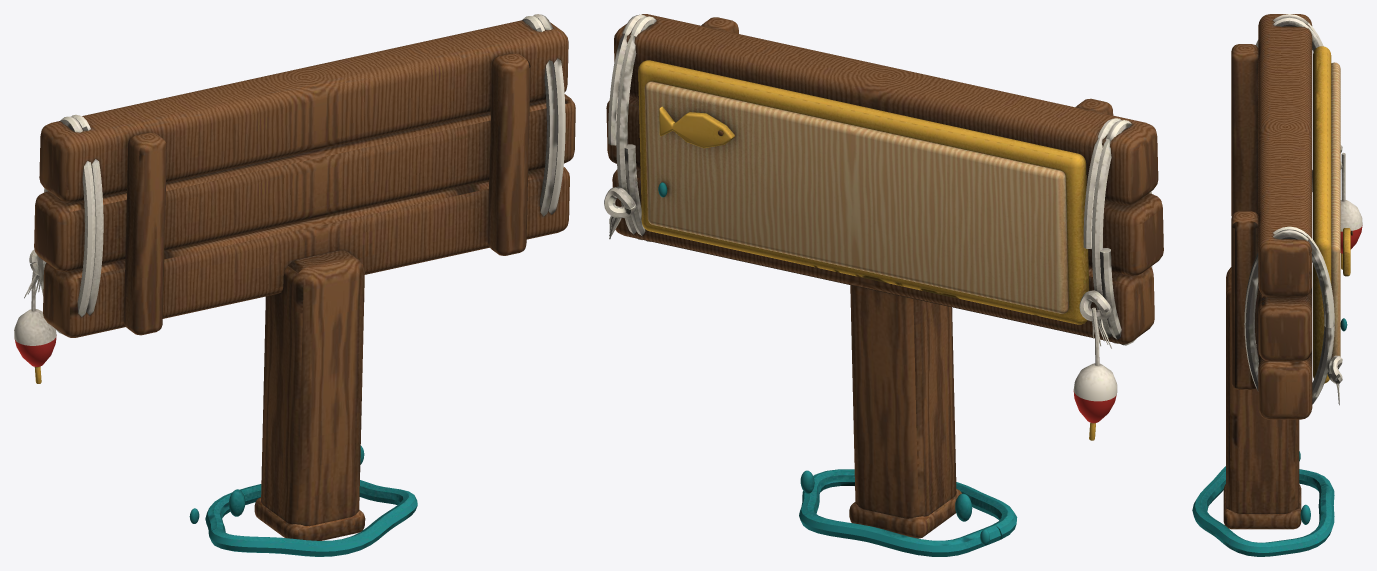
3 renders of one model, left to right at view 1: azimuth 30°, elevation 25°; view 2: azimuth 150°, elevation 25°; view 3: azimuth 270°, elevation 25°, orthographic. The views are drawn at different scales.
Visible parts, largest first — view 1: Wet_jetty_brown_lacquer, Hemp_and_cream_enamel, Glossy_lagoon_water; view 2: Wet_jetty_brown_lacquer, Light_blank_wood_panel, Polished_sunset_brass, Hemp_and_cream_enamel, Glossy_lagoon_water, Glossy_float_red; view 3: Wet_jetty_brown_lacquer, Polished_sunset_brass, Hemp_and_cream_enamel, Glossy_lagoon_water, Light_blank_wood_panel.
Boxes of the visible parts, box(x1,y1,x2,y2) form: Wet_jetty_brown_lacquer: box(34, 20, 575, 540); Hemp_and_cream_enamel: box(14, 14, 565, 345); Glossy_lagoon_water: box(189, 445, 417, 556); Wet_jetty_brown_lacquer: box(606, 14, 1163, 538); Light_blank_wood_panel: box(644, 81, 1068, 313); Polished_sunset_brass: box(638, 60, 1095, 440); Hemp_and_cream_enamel: box(604, 14, 1152, 401); Glossy_lagoon_water: box(658, 182, 1017, 556); Glossy_float_red: box(1073, 391, 1116, 423); Wet_jetty_brown_lacquer: box(1223, 14, 1352, 529); Polished_sunset_brass: box(1313, 46, 1350, 383); Hemp_and_cream_enamel: box(1244, 14, 1362, 405); Glossy_lagoon_water: box(1192, 318, 1347, 556); Light_blank_wood_panel: box(1331, 62, 1340, 358).
Bounding box in the file's own units: 2.49 × 2.08 × 0.7881.
6 materials, 6 textured.
